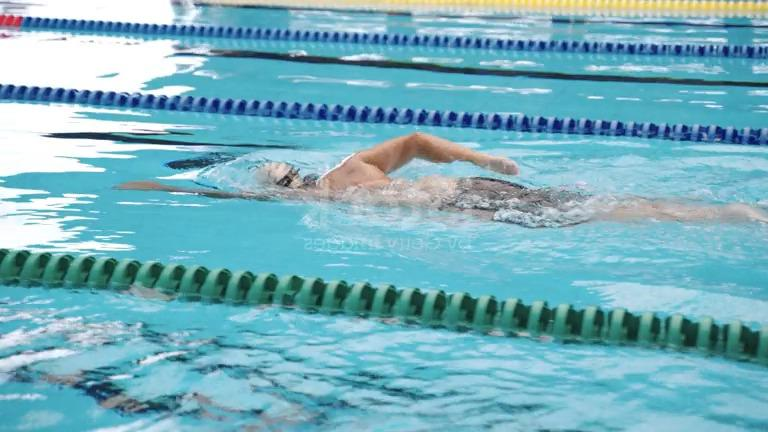Swimming: (109, 129, 767, 233)
